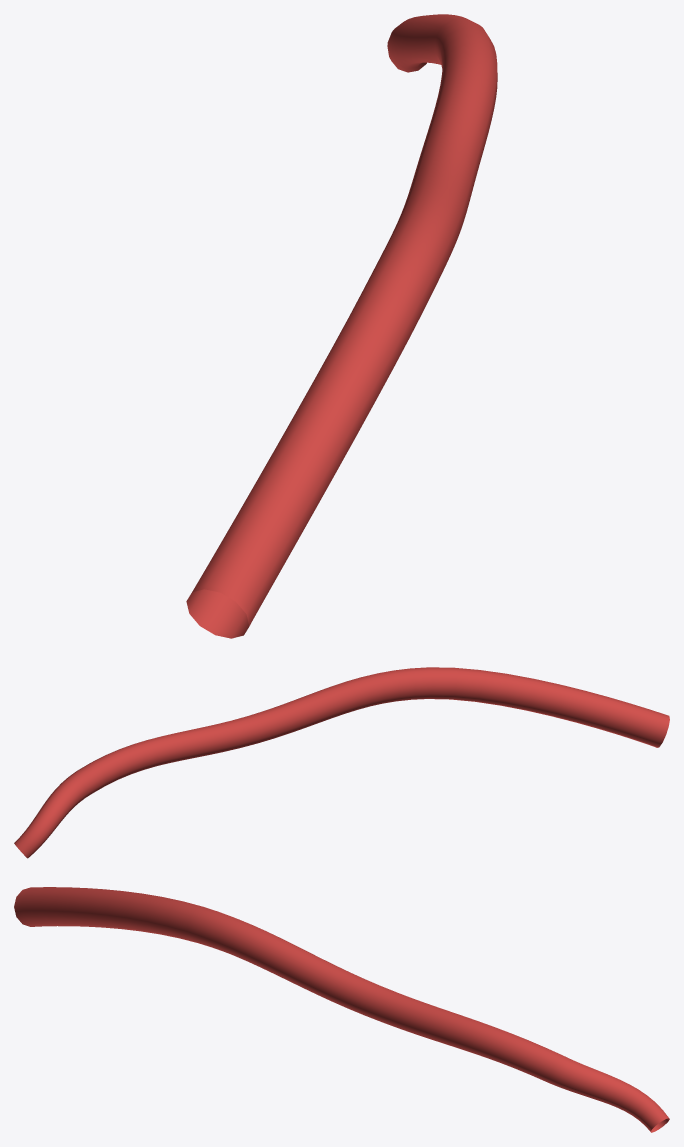
3 renders of one model, top to bottom at view 1: azimuth 30°, elevation 25°; view 2: azimuth 150°, elevation 25°; view 3: azimuth 270°, elevation 25°, orthographic. The views are drawn at different scales.
Parts seen in each view (by area): view 1: 左侧跗外侧动脉; view 2: 左侧跗外侧动脉; view 3: 左侧跗外侧动脉.
Boxes of the visible parts, box(x1,y1,x2,y2) form: 左侧跗外侧动脉: box(186, 14, 497, 638); 左侧跗外侧动脉: box(14, 667, 669, 858); 左侧跗外侧动脉: box(14, 887, 669, 1132).
Bounding box in the file's own units: 0.0569 × 0.0134 × 0.0727.
